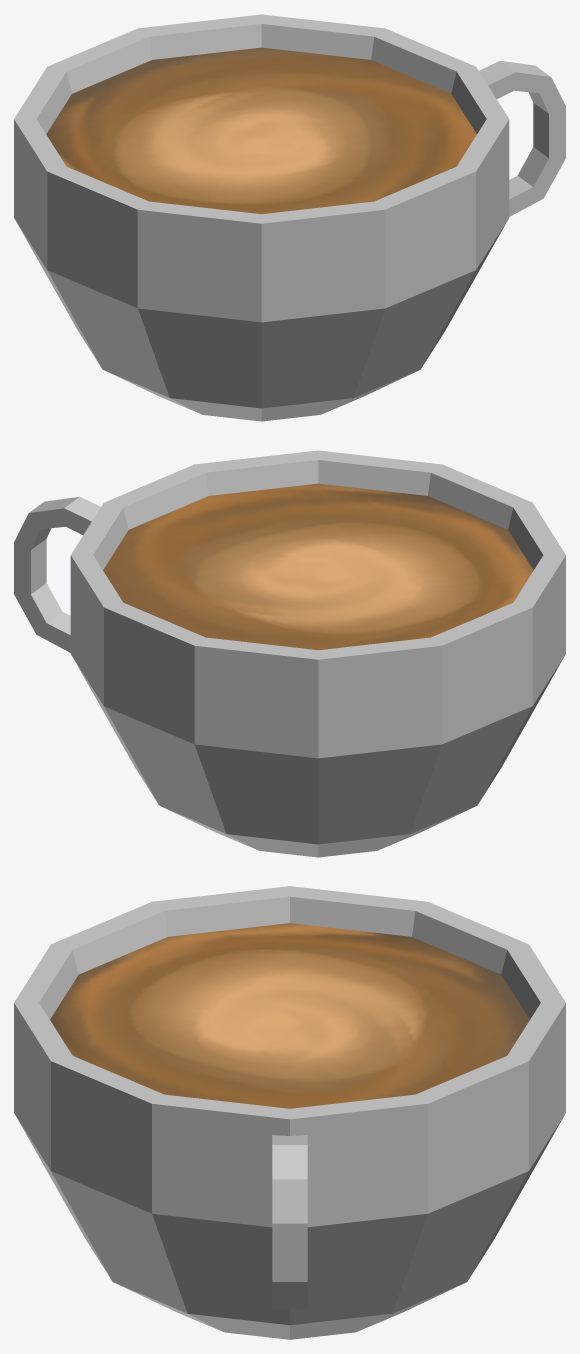
Rendered from coffee_cup_3.obj.
3 renders of one model, top to bottom at view 1: azimuth 30°, elevation 25°; view 2: azimuth 150°, elevation 25°; view 3: azimuth 270°, elevation 25°, orthographic. The views are drawn at different scales.
Parts seen in each view (by area): view 1: coffee_cup_3; view 2: coffee_cup_3; view 3: coffee_cup_3.
Boxes of the visible parts, left/top/right/bottom form: coffee_cup_3: left=14, top=14, right=565, bottom=421; coffee_cup_3: left=14, top=450, right=565, bottom=857; coffee_cup_3: left=14, top=886, right=565, bottom=1339.
Bounding box in the file's own units: 0.1808 × 0.0854 × 0.1518.
